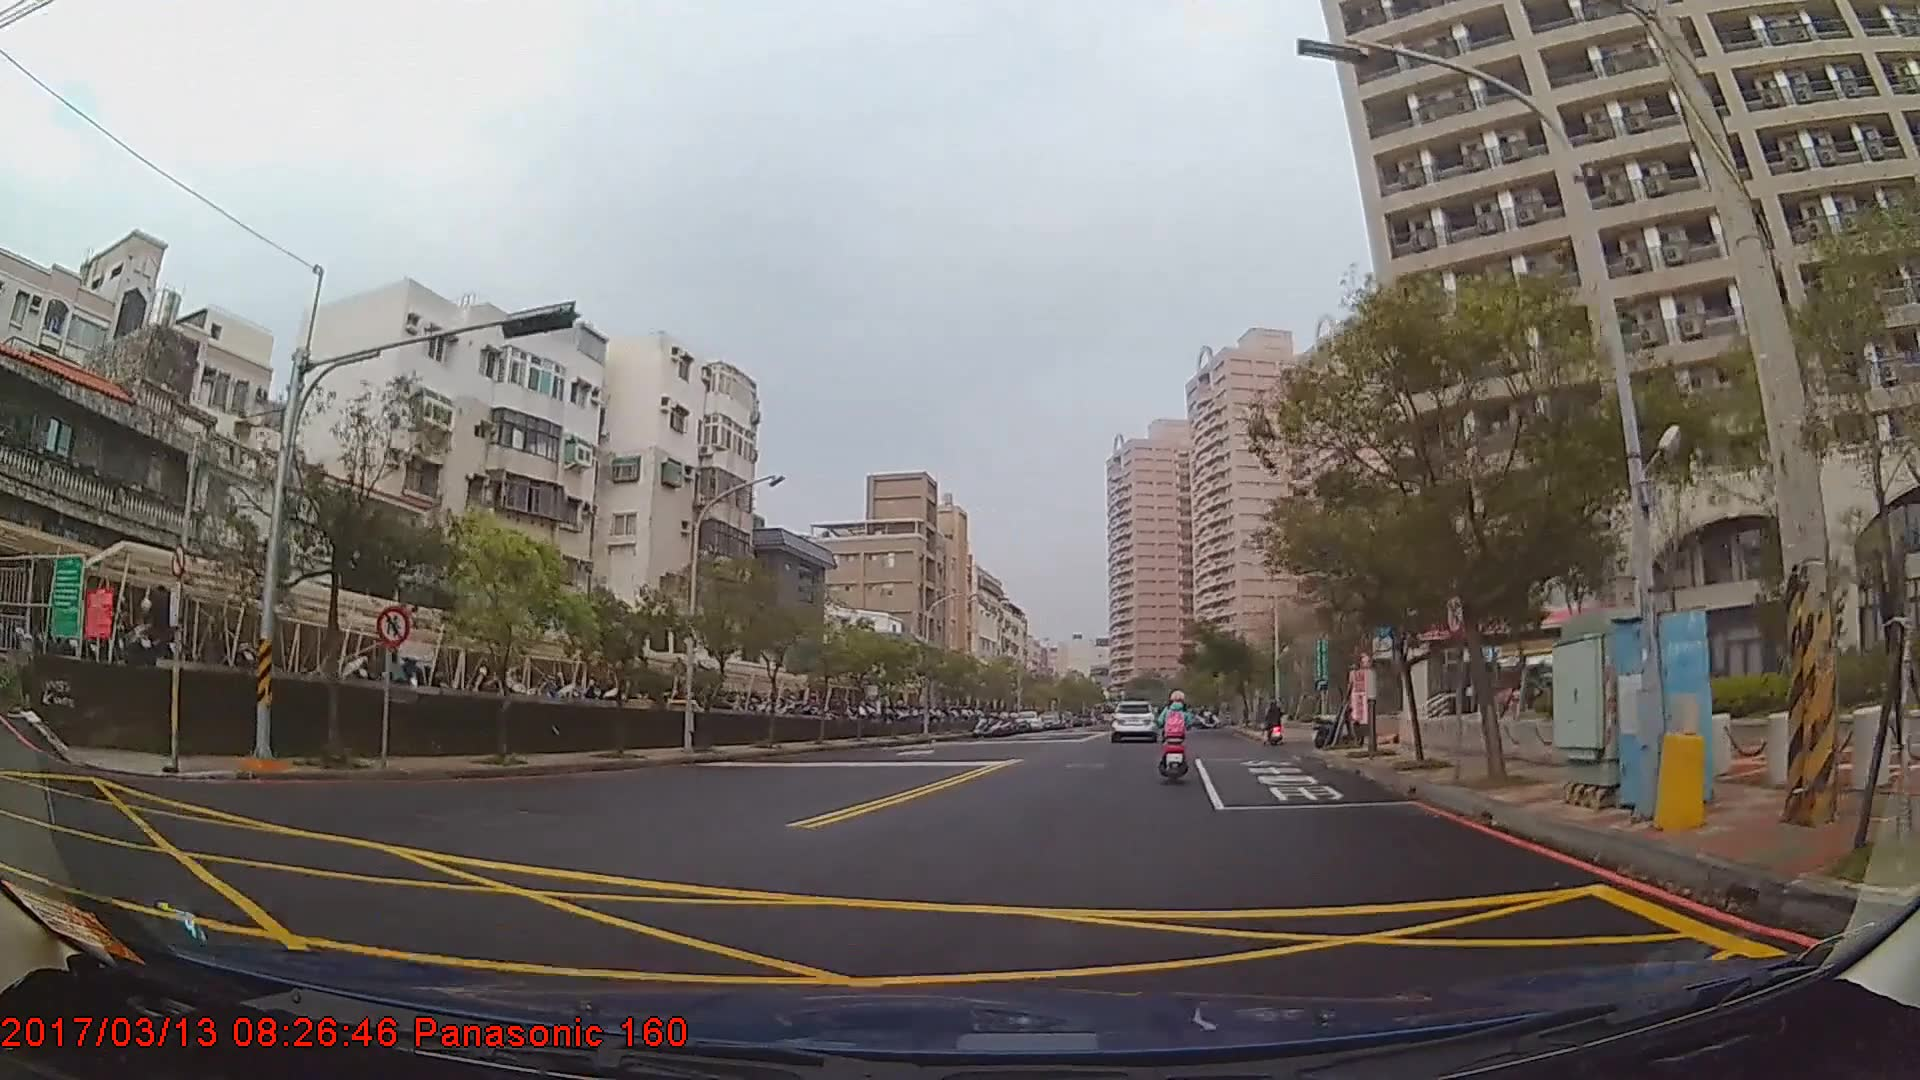rider: (1155, 692, 1201, 781), (1265, 702, 1286, 743)
vehicle: (1110, 697, 1158, 740)
